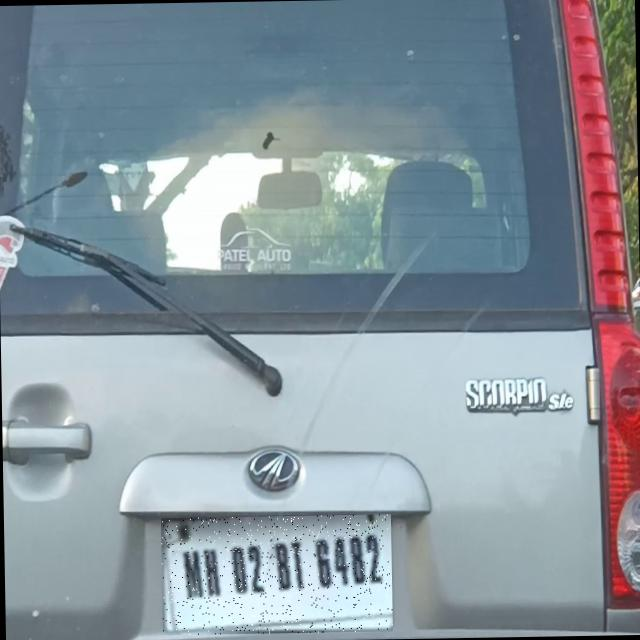Plate: (162, 515, 394, 636)
